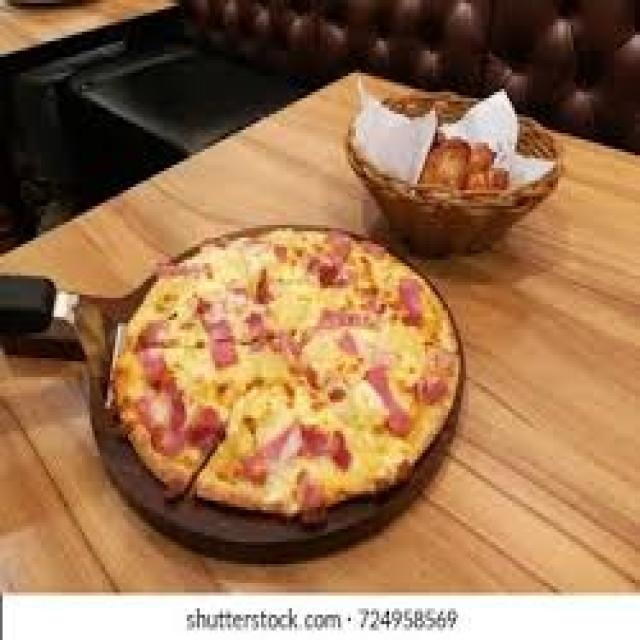피자: (126, 222, 464, 520)
